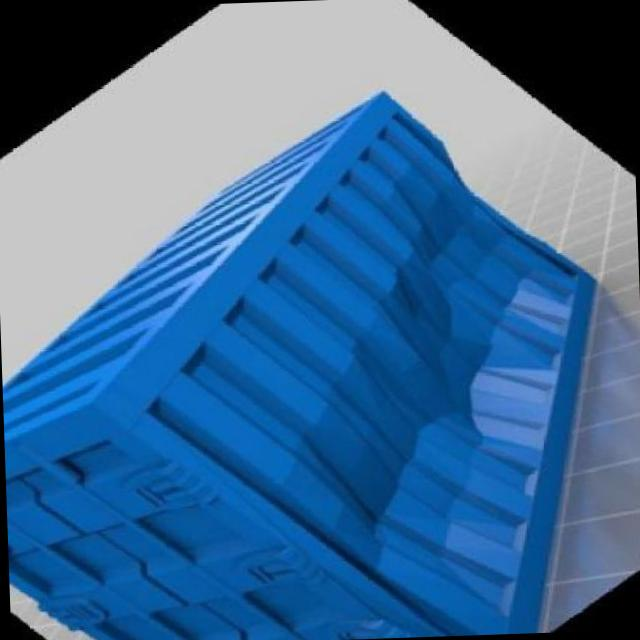Deframe: (104, 82, 599, 636)
